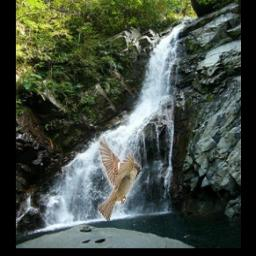Sparrow: (98, 136, 142, 221)
